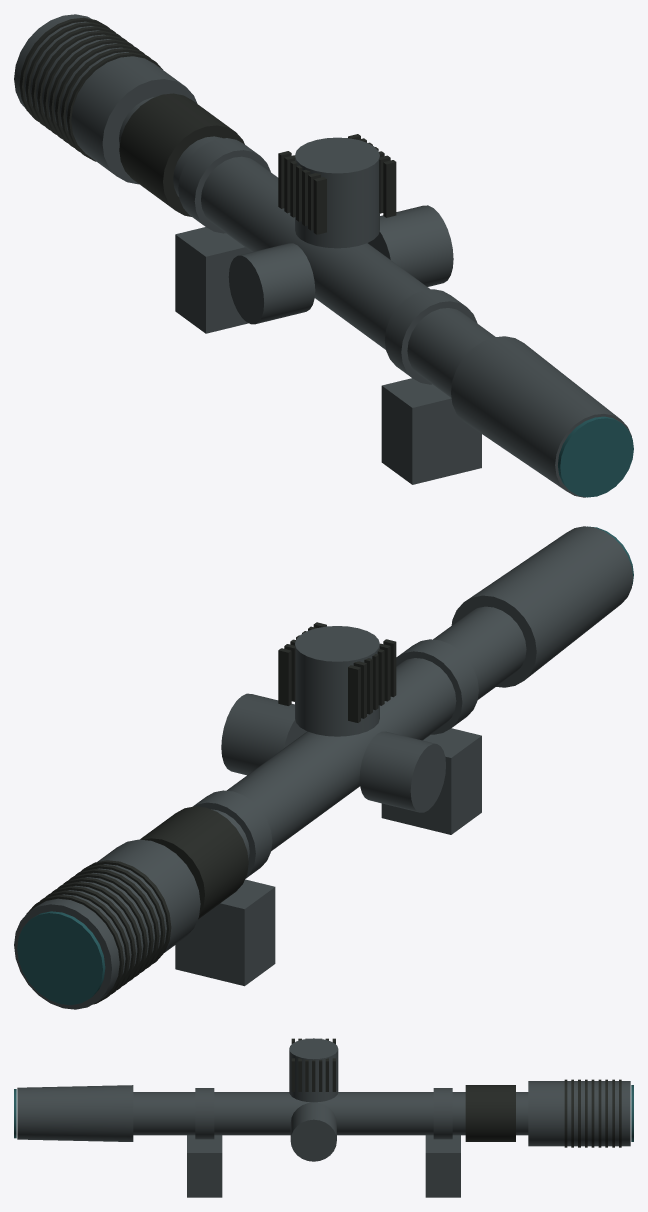
The model's file is scope_field.glb.
3 renders of one model, top to bottom at view 1: azimuth 30°, elevation 25°; view 2: azimuth 150°, elevation 25°; view 3: azimuth 270°, elevation 25°, orthographic. The views are drawn at different scales.
Parts seen in each view (by area): view 1: static_batch_1_0, static_batch_1_1, turret_elevation, zoom_ring, parallax_knob, lens_front, turret_windage; view 2: static_batch_1_0, static_batch_1_1, turret_elevation, lens_rear, zoom_ring, parallax_knob, turret_windage; view 3: static_batch_1_0, static_batch_1_1, zoom_ring, turret_windage, turret_elevation.
Part boxes in pixels (box(x1,y1,x2,y2)): static_batch_1_0: box(14, 14, 631, 497); static_batch_1_1: box(19, 17, 396, 234); turret_elevation: box(295, 137, 379, 248); zoom_ring: box(119, 93, 244, 216); parallax_knob: box(228, 243, 315, 324); lens_front: box(558, 416, 633, 497); turret_windage: box(368, 205, 453, 286); static_batch_1_0: box(14, 526, 632, 1009); static_batch_1_1: box(26, 622, 396, 1004); turret_elevation: box(295, 626, 379, 736); lens_rear: box(17, 911, 105, 1005); zoom_ring: box(140, 806, 248, 919); parallax_knob: box(359, 731, 445, 812); turret_windage: box(221, 693, 306, 775); static_batch_1_0: box(17, 1081, 630, 1197); static_batch_1_1: box(291, 1038, 621, 1147); zoom_ring: box(465, 1085, 515, 1141); turret_windage: box(290, 1102, 336, 1161); turret_elevation: box(289, 1038, 338, 1102).
Size of the model in its own units: 0.0915 by 0.1125 by 0.455.
